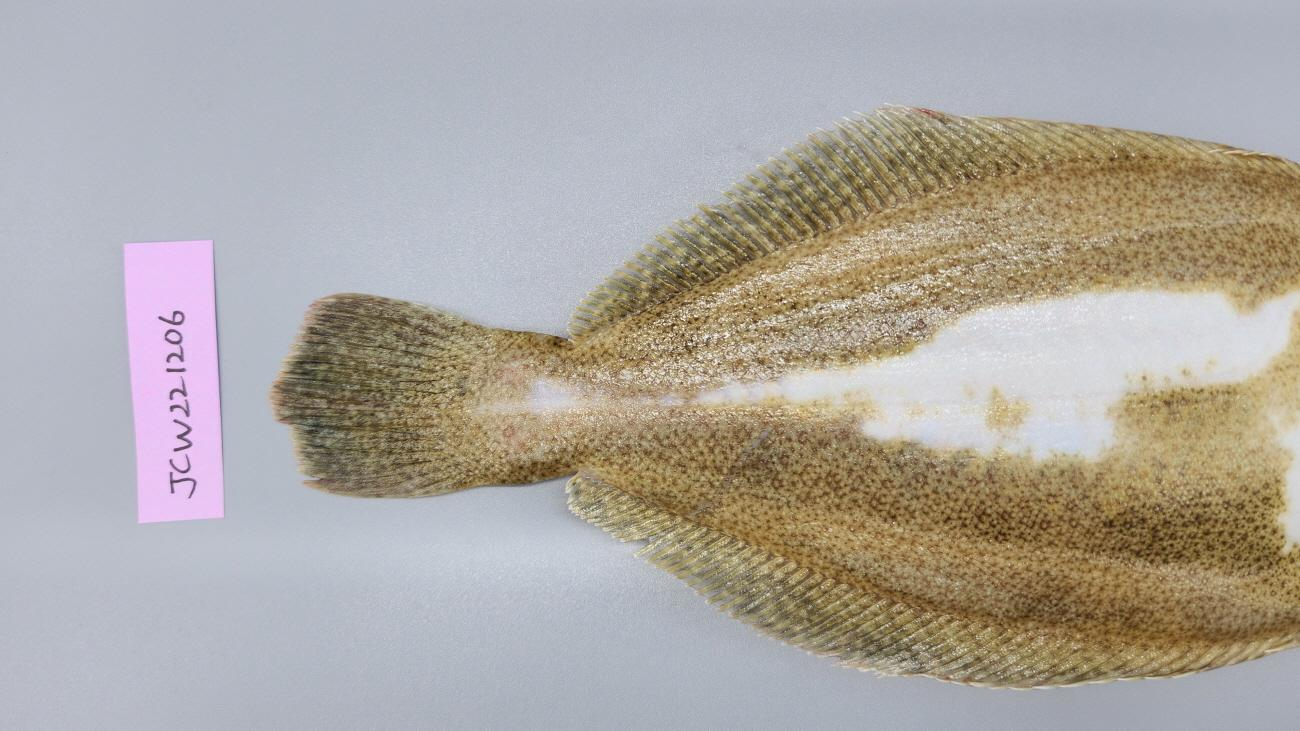POOUN: (268, 103, 1300, 691)
